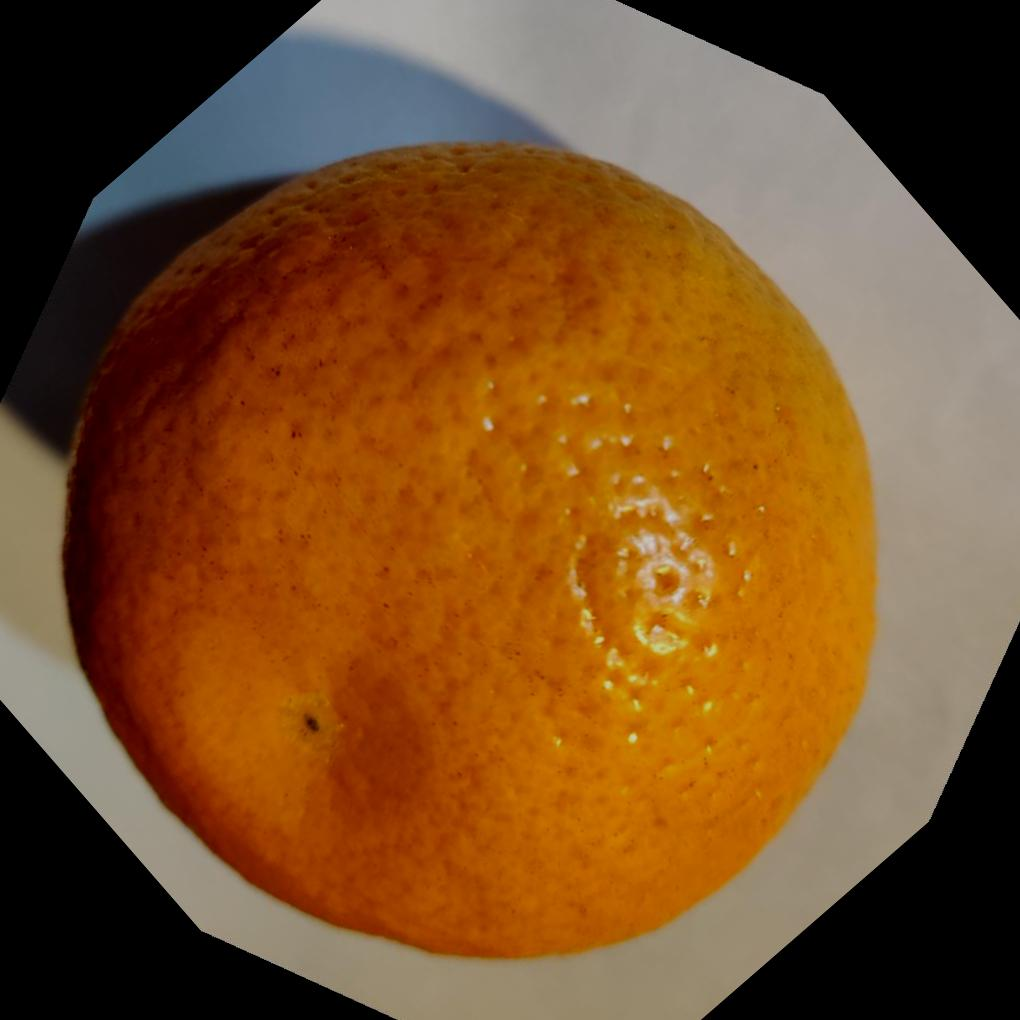FreshGuava: (56, 134, 879, 961)
